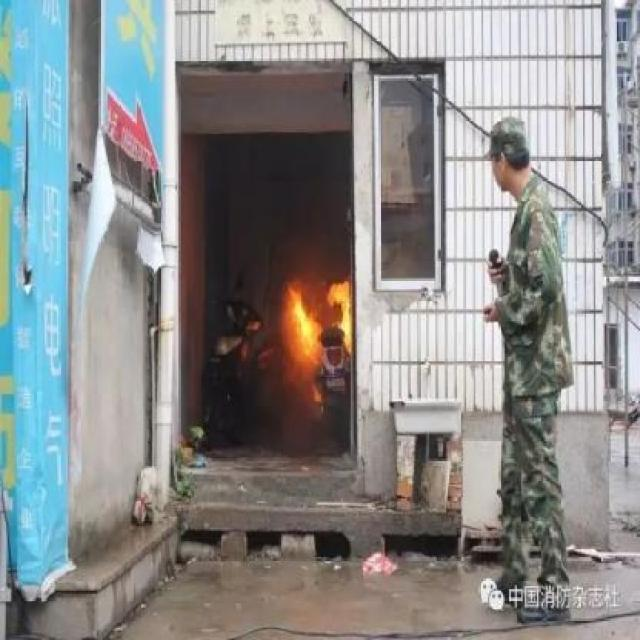Fire: (284, 281, 320, 390), (326, 278, 352, 350)
Smoke: (275, 148, 351, 292)
